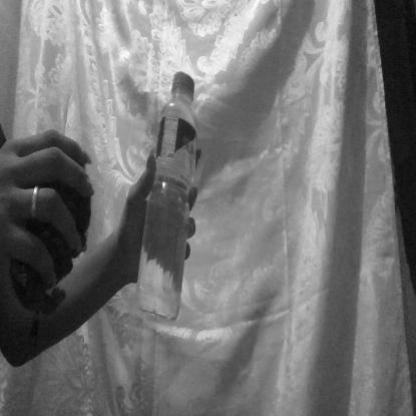Plastic Bottle: (122, 48, 226, 344)
